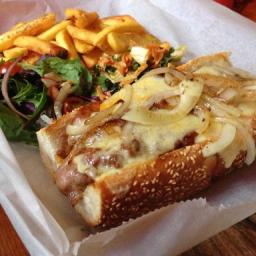hotdog: (51, 155, 83, 196)
